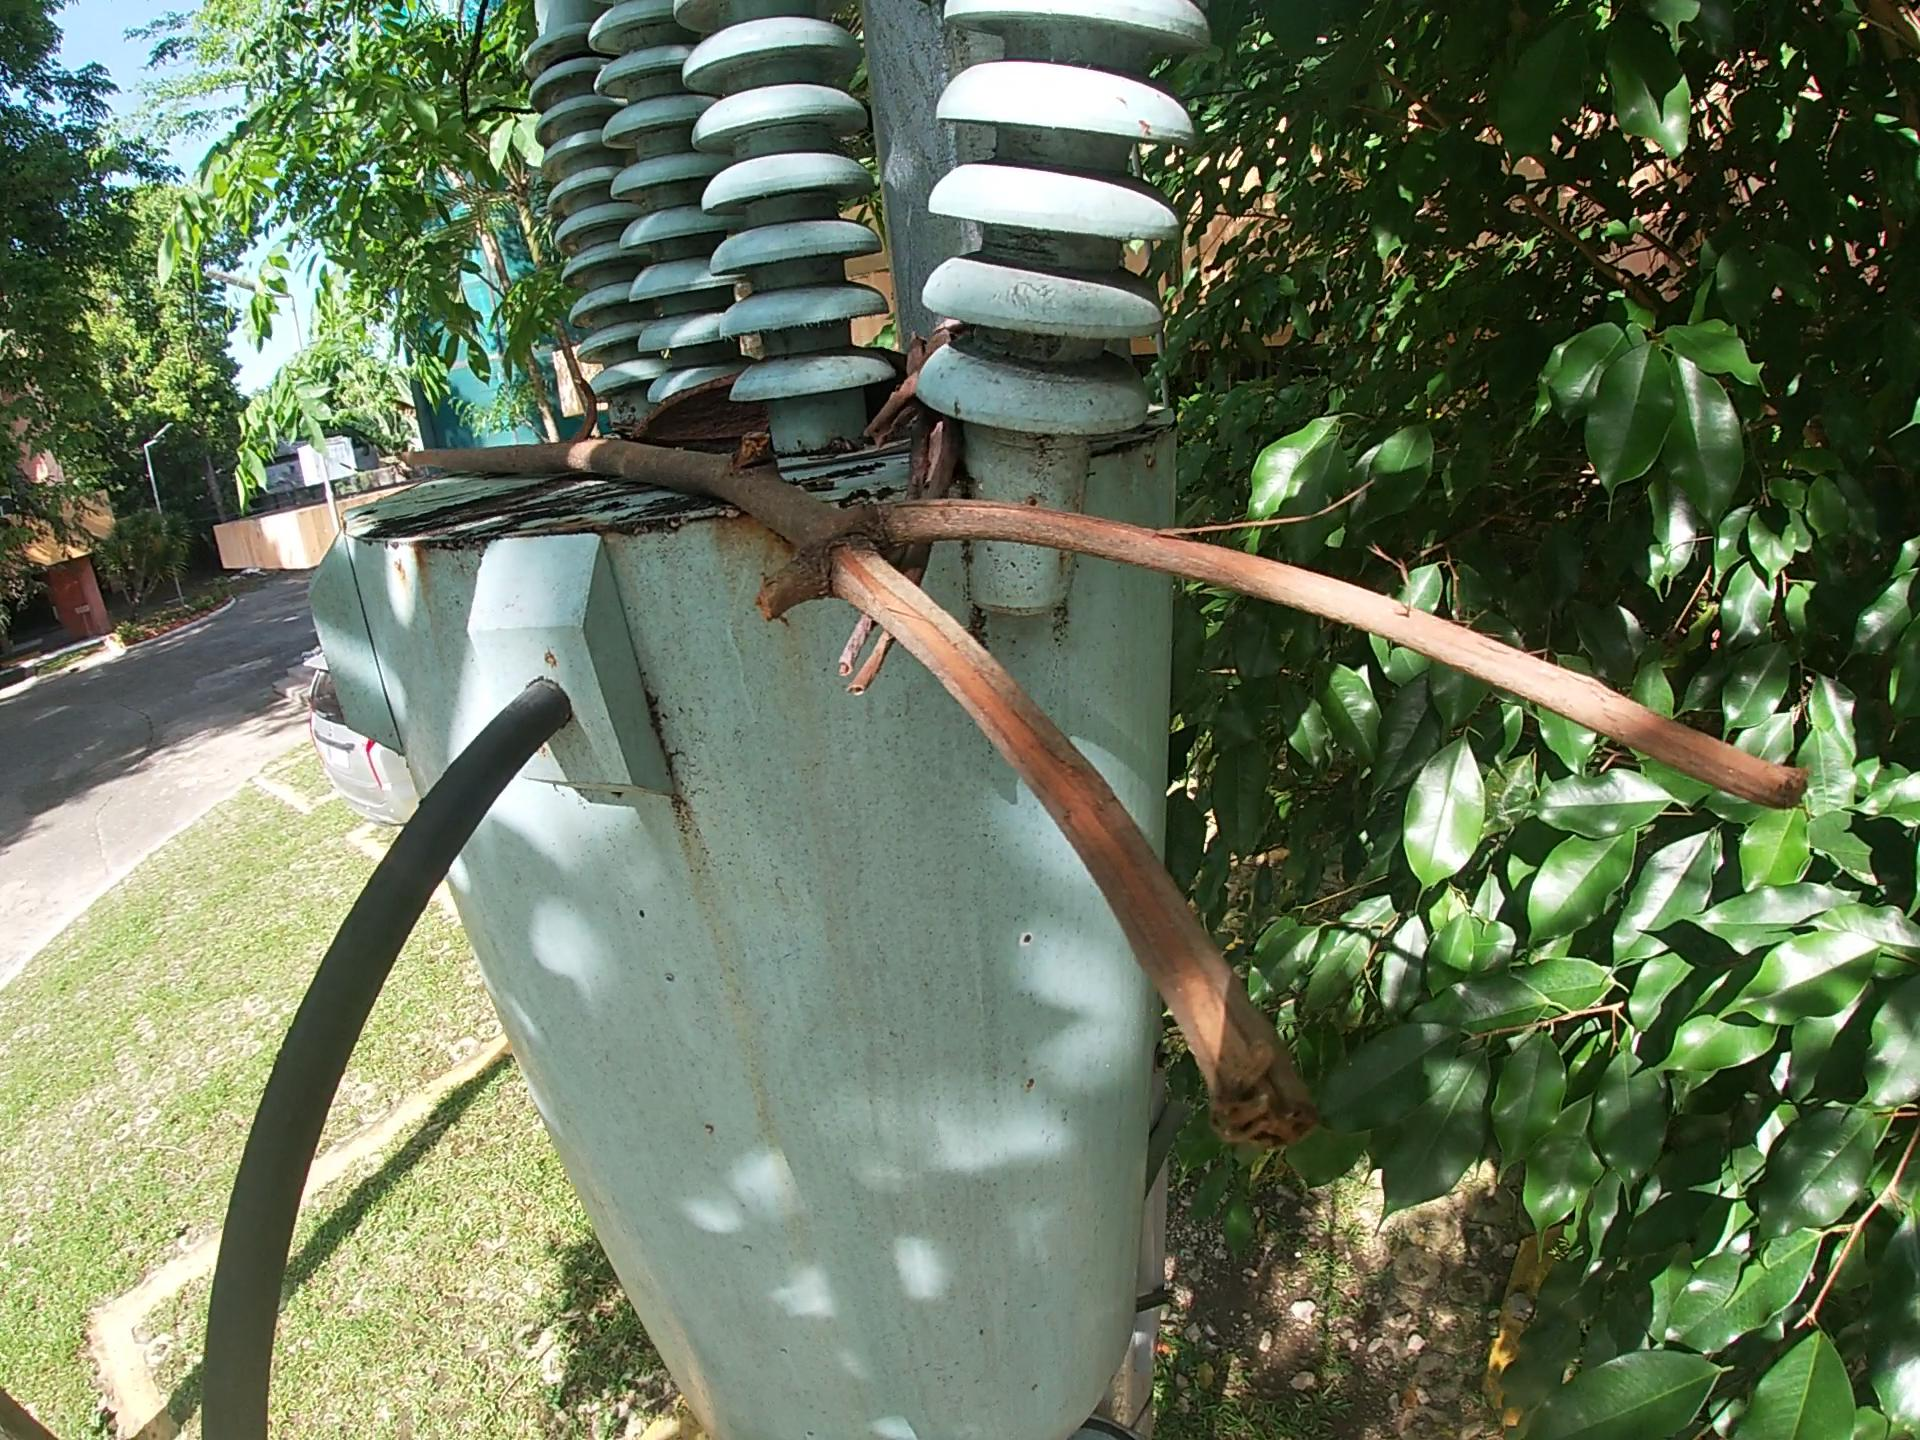mahogany fruit: (627, 340, 916, 458), (568, 378, 602, 442)
tree branch: (390, 424, 1819, 1168), (825, 312, 983, 708)
